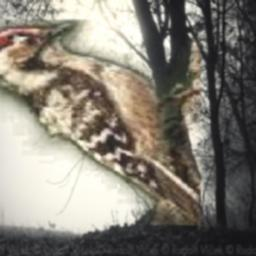Woodpecker: (0, 20, 202, 225)
